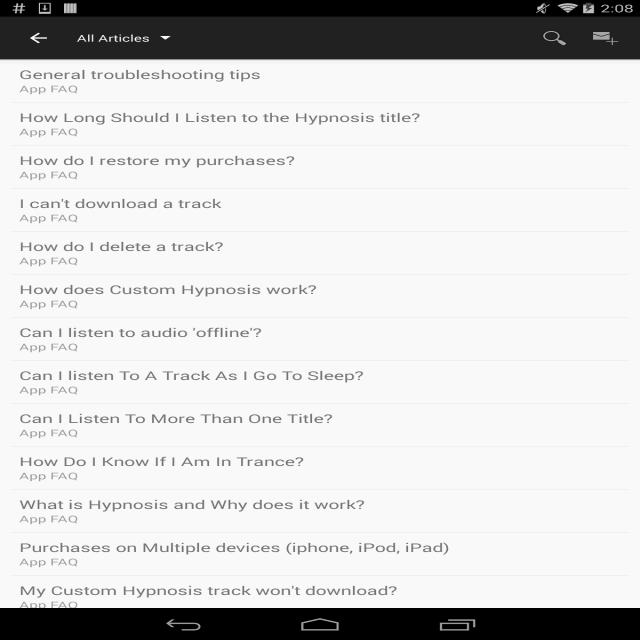ImageButton: (534, 27, 580, 50), (589, 27, 624, 48), (24, 28, 54, 48)
TextView: (15, 68, 274, 96), (15, 450, 314, 474), (14, 368, 382, 384), (13, 194, 223, 213), (66, 28, 154, 47), (15, 509, 90, 527), (15, 296, 84, 314)
